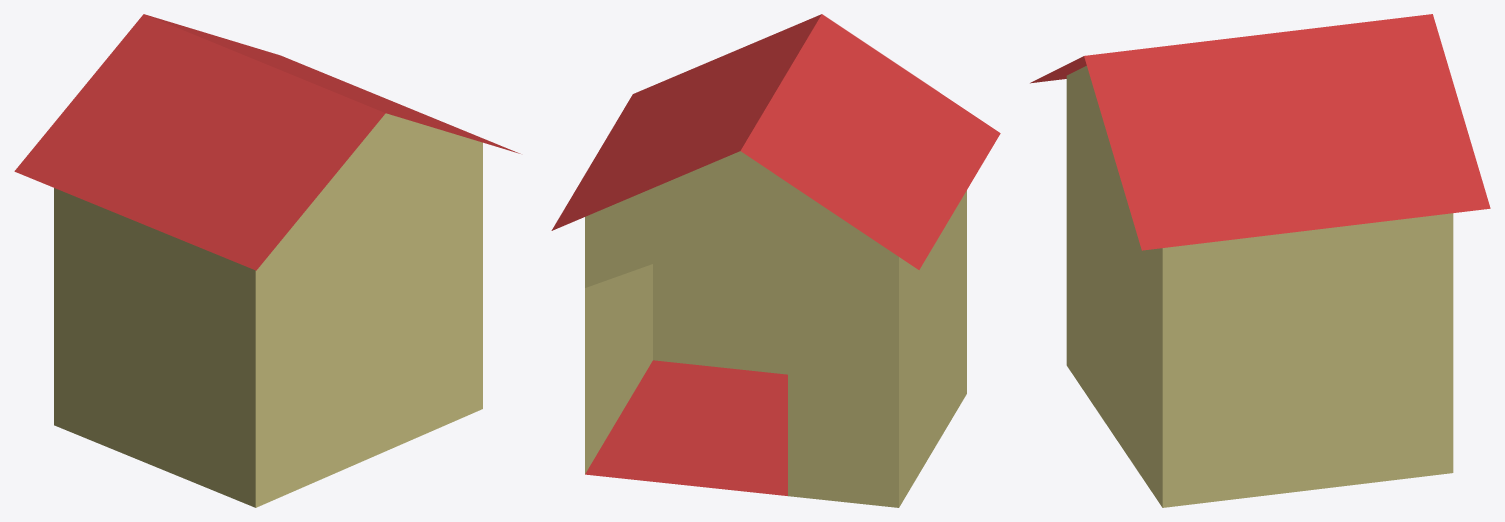
3 renders of one model, left to right at view 1: azimuth 30°, elevation 25°; view 2: azimuth 150°, elevation 25°; view 3: azimuth 270°, elevation 25°, orthographic. The views are drawn at different scales.
Size of the model in its own units: 12.32 by 11.48 by 10.49.
